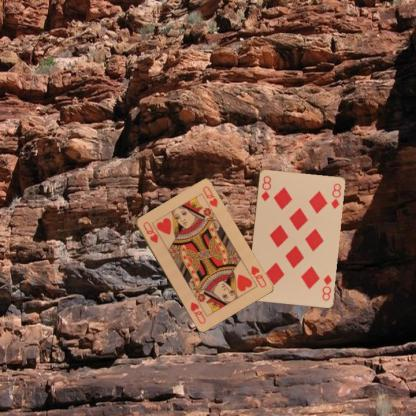8d: (319, 272, 333, 302), (258, 173, 272, 202)
Qh: (248, 263, 267, 289), (140, 219, 159, 244)
